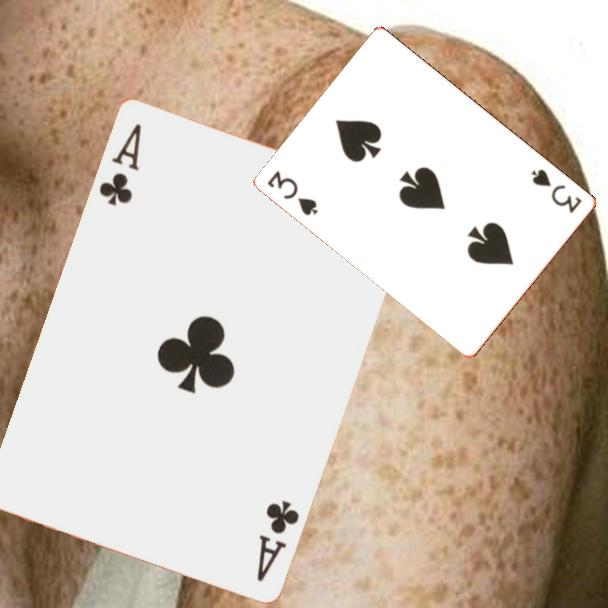c01: (95, 119, 144, 208), (253, 496, 302, 584)
s03: (527, 165, 585, 216), (264, 167, 321, 218)
